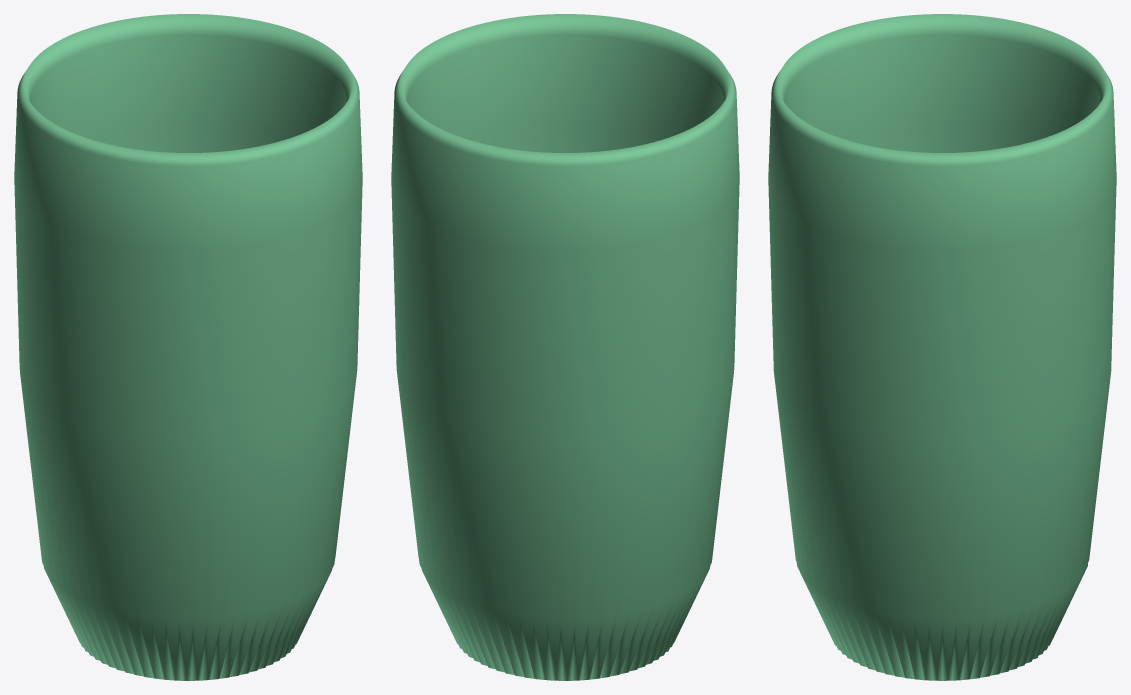
Rendered from bin_recycle.glb.
3 renders of one model, left to right at view 1: azimuth 30°, elevation 25°; view 2: azimuth 150°, elevation 25°; view 3: azimuth 270°, elevation 25°, orthographic.
Parts seen in each view (by area): view 1: Bin_Recycle_Body; view 2: Bin_Recycle_Body; view 3: Bin_Recycle_Body.
Part boxes in pixels (x1,y1,x2,y2): Bin_Recycle_Body: [14, 14, 362, 680]; Bin_Recycle_Body: [391, 14, 739, 680]; Bin_Recycle_Body: [768, 14, 1116, 680].
Size of the model in its own units: 0.2756 by 0.4958 by 0.2756.
